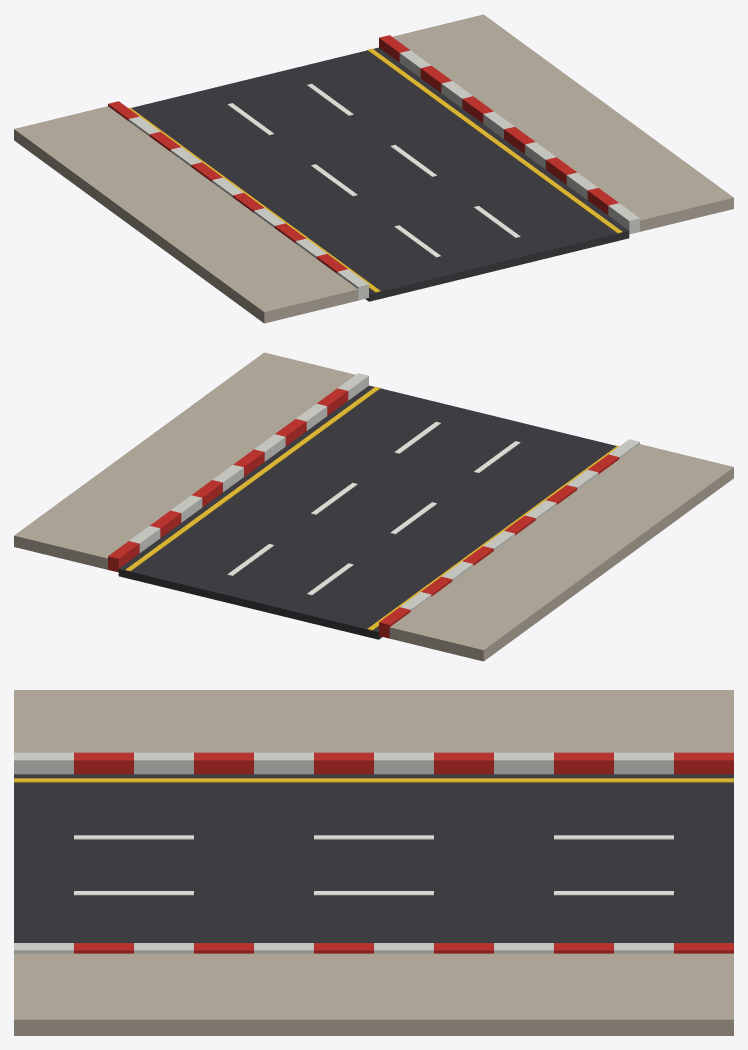
The model's file is road.glb.
3 renders of one model, top to bottom at view 1: azimuth 30°, elevation 25°; view 2: azimuth 150°, elevation 25°; view 3: azimuth 270°, elevation 25°, orthographic. The views are drawn at different scales.
Parts seen in each view (by area): view 1: road; view 2: road; view 3: road.
Part boxes in pixels (bbox=[...]): road: bbox=[14, 14, 733, 323]; road: bbox=[14, 352, 733, 661]; road: bbox=[14, 690, 733, 1035].
Size of the model in its own units: 13 by 0.46 by 12.
